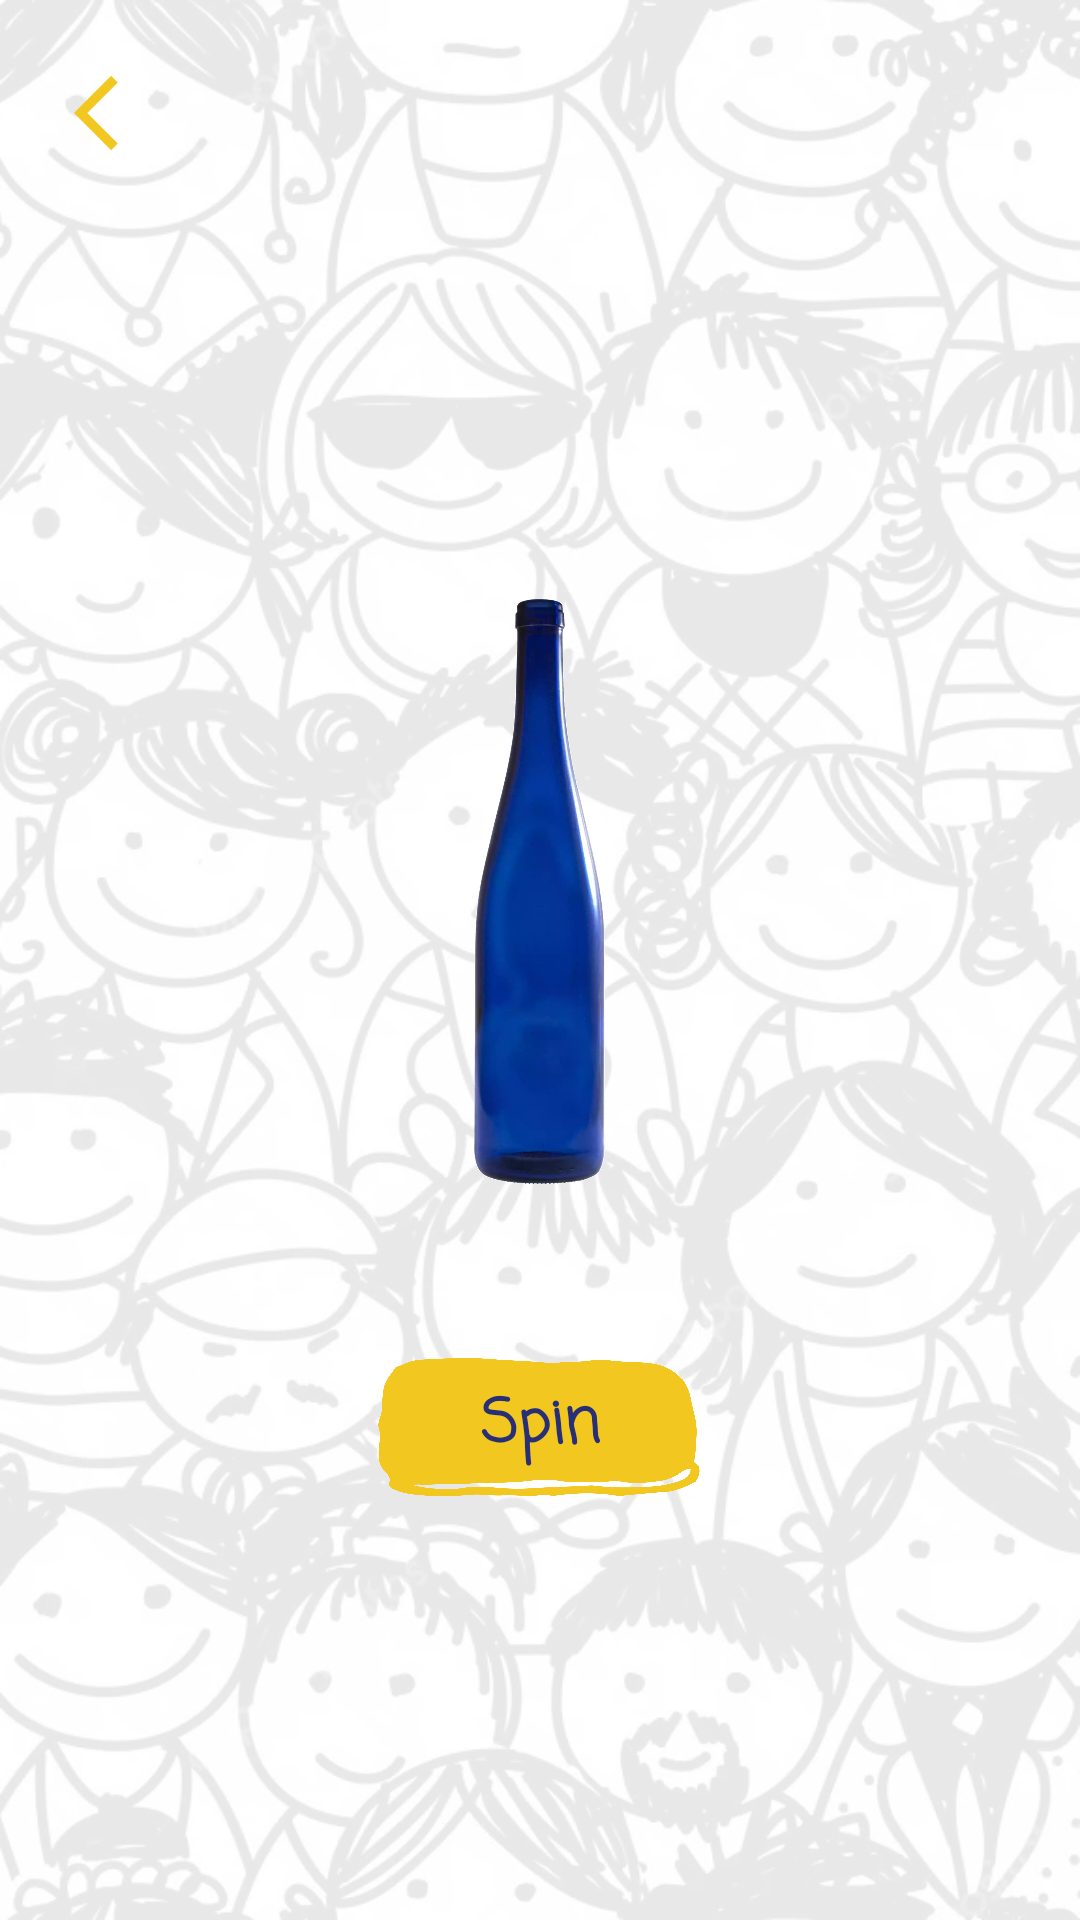

Icon bounding boxes for this 1080×1920 phone screenshot, format (x1, y1, x2, y2):
backbtn: (74, 76, 118, 150)
